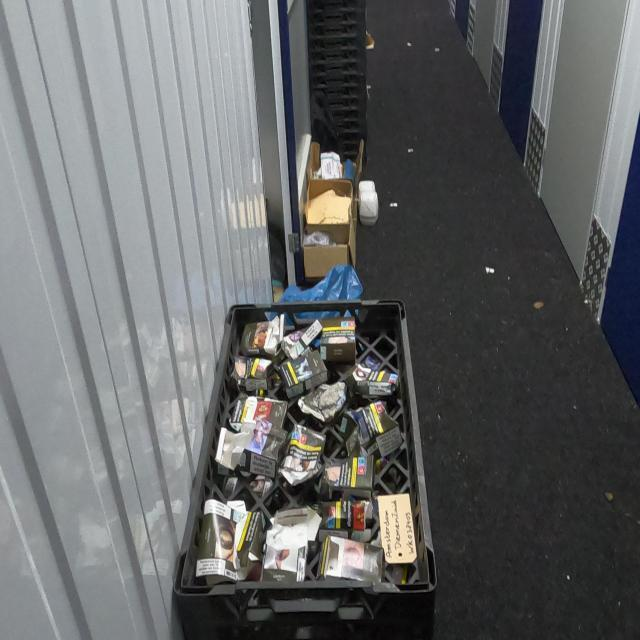Paper: (194, 496, 266, 582), (260, 505, 323, 585), (214, 417, 288, 480), (339, 400, 403, 460), (316, 535, 383, 585), (278, 422, 326, 488), (312, 498, 374, 544), (228, 390, 288, 433), (320, 453, 375, 499), (277, 348, 327, 398), (239, 312, 286, 357), (298, 382, 348, 423), (345, 362, 399, 397), (281, 318, 323, 361), (320, 317, 356, 364), (229, 356, 274, 391)
